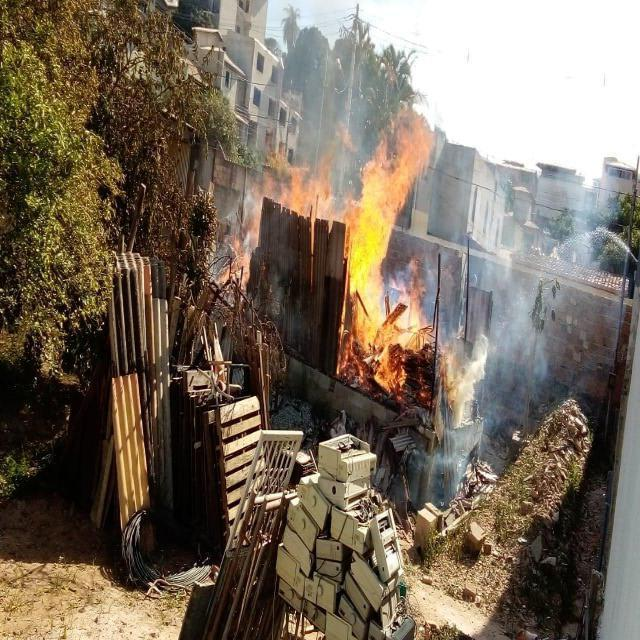Fire: (340, 102, 433, 375), (268, 116, 338, 208), (222, 179, 262, 282)
